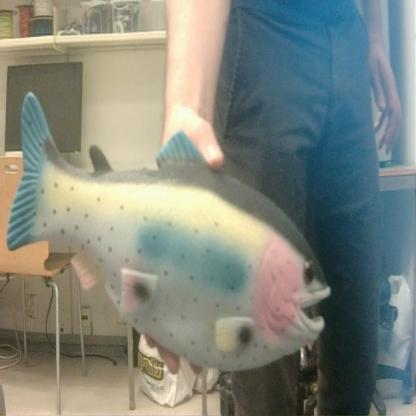rubberfish: (4, 89, 334, 374)
